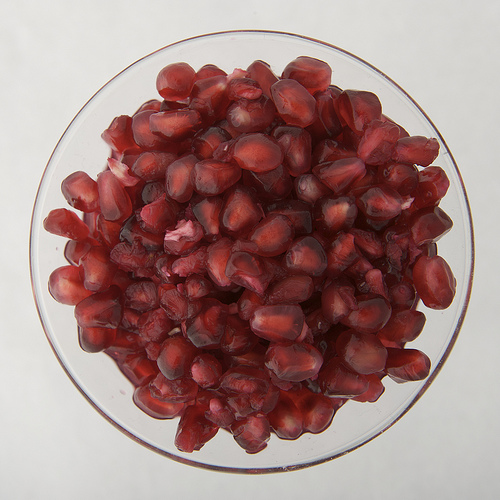pomogranate: (42, 57, 461, 460)
